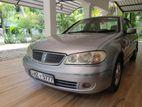car: (17, 14, 140, 101)
